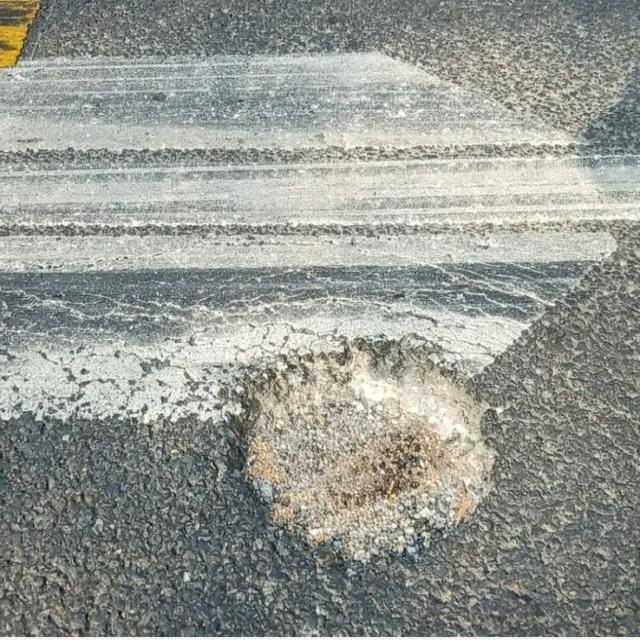pothole: (238, 335, 498, 557)
